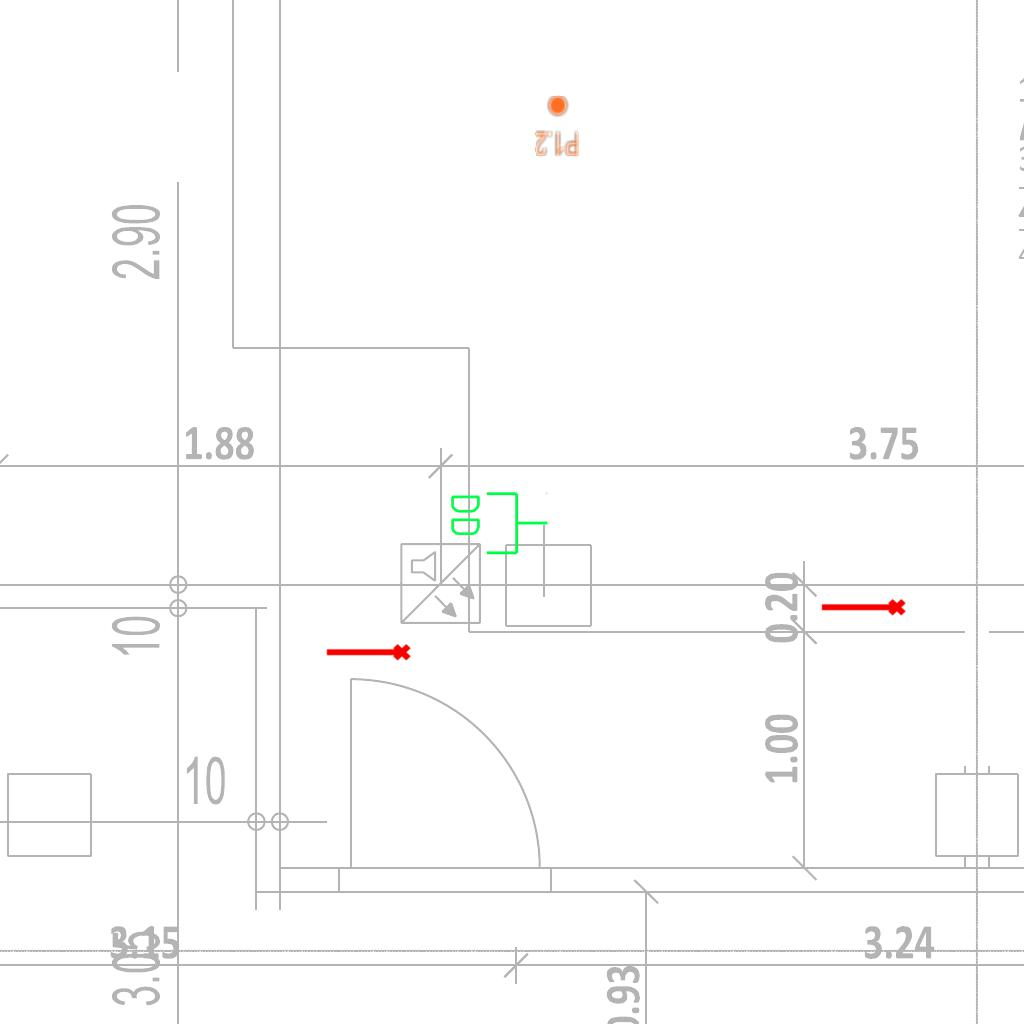ASR_Ansaugoeffnung: (324, 642, 412, 665), (819, 597, 907, 620)
Datenanschluss_zweifach: (447, 488, 550, 557)
Downlight_LED_Einbauleuchten_Flur: (534, 94, 580, 158)
